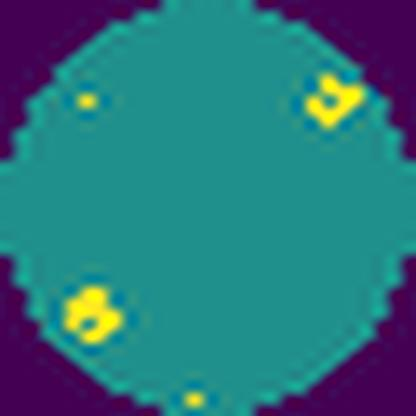Loc: (55, 276, 131, 349), (297, 69, 366, 128)
